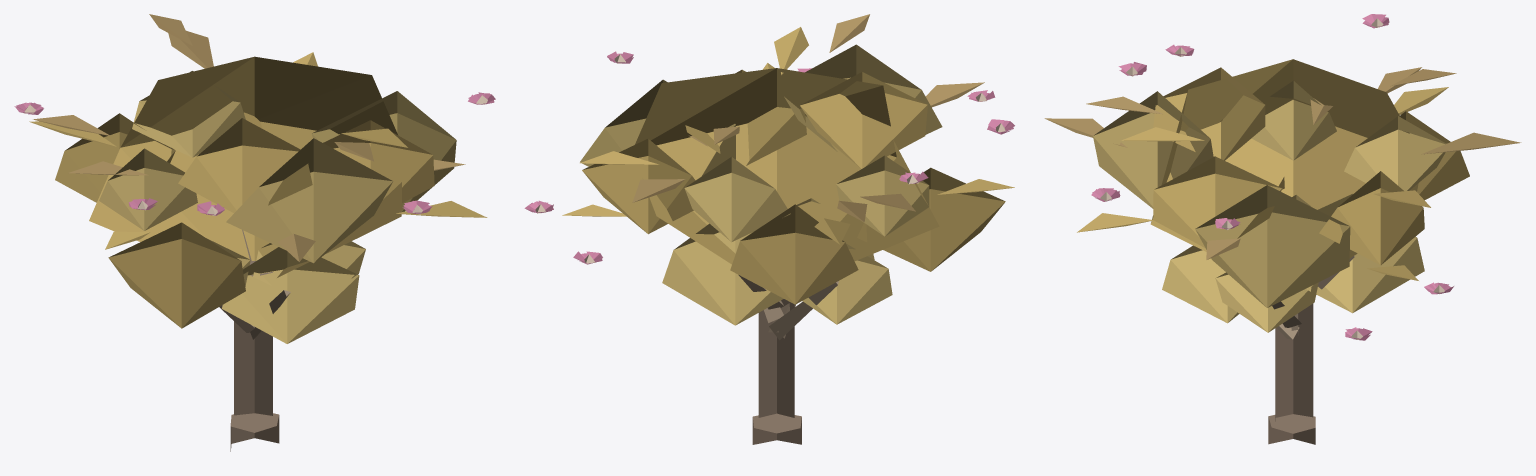
The model's file is shu.wujiaofeng@flowering__autumn.glb.
The picture shows the model from 3 angles, left to right: view 1: azimuth 30°, elevation 25°; view 2: azimuth 150°, elevation 25°; view 3: azimuth 270°, elevation 25°; orthographic projection. The views are drawn at different scales.
Parts seen in each view (by area): view 1: shu.wujiaofeng@flowering__autumn; view 2: shu.wujiaofeng@flowering__autumn; view 3: shu.wujiaofeng@flowering__autumn.
Part boxes in pixels (box(x1,y1,x2,y2)): shu.wujiaofeng@flowering__autumn: box(14, 14, 495, 451); shu.wujiaofeng@flowering__autumn: box(524, 14, 1014, 444); shu.wujiaofeng@flowering__autumn: box(1044, 14, 1521, 444).
Bounding box in the file's own units: 12.02 × 10.46 × 12.31.
